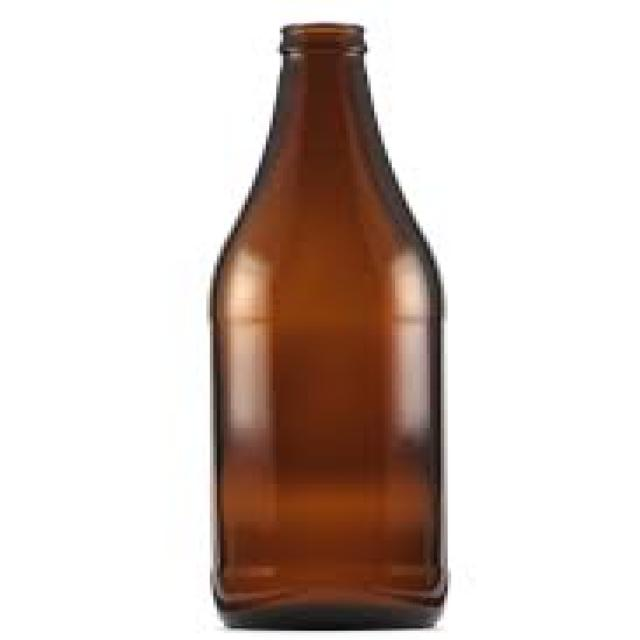glass: (206, 21, 444, 628)
